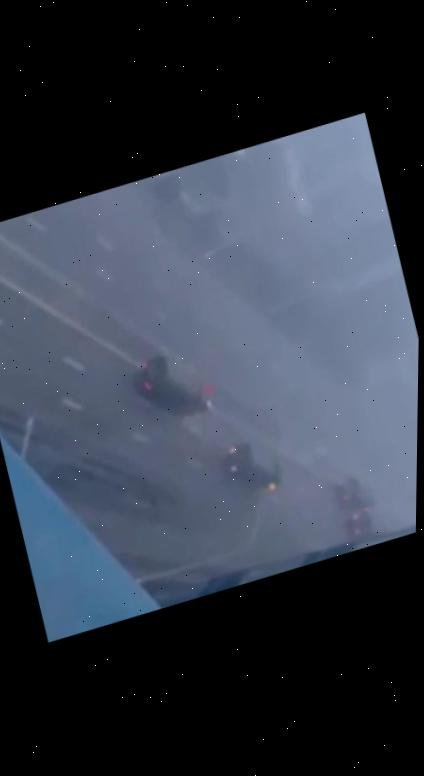truck: (128, 341, 217, 432), (219, 433, 285, 501), (332, 502, 397, 549), (324, 467, 379, 522)
